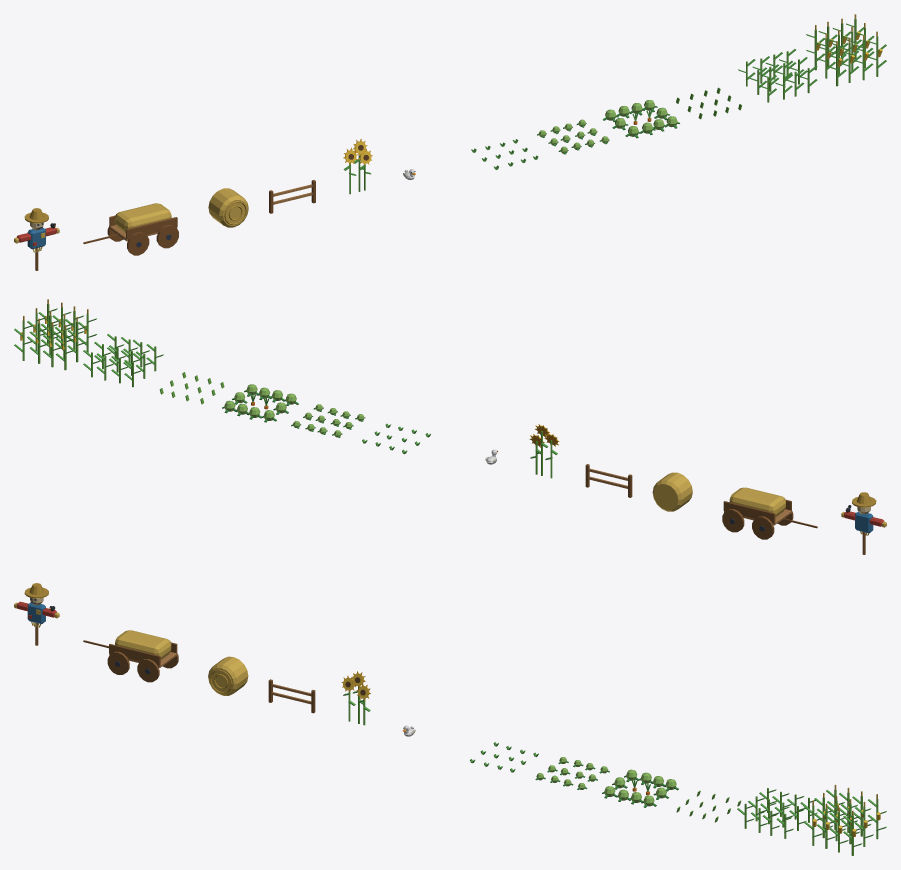
The model's file is farm-props.glb.
3 views of the same model, one above another, from view 1: azimuth 30°, elevation 25°; view 2: azimuth 150°, elevation 25°; view 3: azimuth 330°, elevation 25° (orthographic).
Parts seen in each view (by area): view 1: fm_cart_mesh, fm_corn_3_mesh, fm_corn_2_mesh, fm_veg_3_mesh, fm_haybale_mesh, fm_scarecrow_mesh, fm_sunflowers_mesh, fm_veg_2_mesh, fm_fence_mesh; view 2: fm_cart_mesh, fm_corn_3_mesh, fm_corn_2_mesh, fm_veg_3_mesh, fm_haybale_mesh, fm_scarecrow_mesh, fm_sunflowers_mesh, fm_veg_2_mesh, fm_fence_mesh; view 3: fm_cart_mesh, fm_corn_3_mesh, fm_veg_3_mesh, fm_corn_2_mesh, fm_haybale_mesh, fm_scarecrow_mesh, fm_sunflowers_mesh, fm_veg_2_mesh.
Boxes of the visible parts, <box> form: fm_cart_mesh: <box>83,203,178,255</box>; fm_corn_3_mesh: <box>806,14,886,86</box>; fm_corn_2_mesh: <box>738,49,817,102</box>; fm_veg_3_mesh: <box>603,100,679,138</box>; fm_haybale_mesh: <box>208,188,248,227</box>; fm_scarecrow_mesh: <box>14,208,59,270</box>; fm_sunflowers_mesh: <box>343,139,372,194</box>; fm_veg_2_mesh: <box>537,119,609,154</box>; fm_fence_mesh: <box>269,180,315,213</box>; fm_cart_mesh: <box>722,487,817,539</box>; fm_corn_3_mesh: <box>14,299,97,370</box>; fm_corn_2_mesh: <box>83,334,163,387</box>; fm_veg_3_mesh: <box>222,384,298,422</box>; fm_haybale_mesh: <box>652,472,692,511</box>; fm_scarecrow_mesh: <box>841,492,886,554</box>; fm_sunflowers_mesh: <box>529,424,559,478</box>; fm_veg_2_mesh: <box>291,404,365,437</box>; fm_fence_mesh: <box>585,464,632,497</box>; fm_cart_mesh: <box>83,630,178,682</box>; fm_corn_3_mesh: <box>804,784,886,855</box>; fm_veg_3_mesh: <box>602,769,678,807</box>; fm_corn_2_mesh: <box>737,788,817,838</box>; fm_haybale_mesh: <box>208,656,248,695</box>; fm_scarecrow_mesh: <box>14,583,59,645</box>; fm_sunflowers_mesh: <box>341,671,370,725</box>; fm_veg_2_mesh: <box>535,757,609,789</box>.
Bounding box in the file's own units: 40.44 × 2.75 × 2.58.
